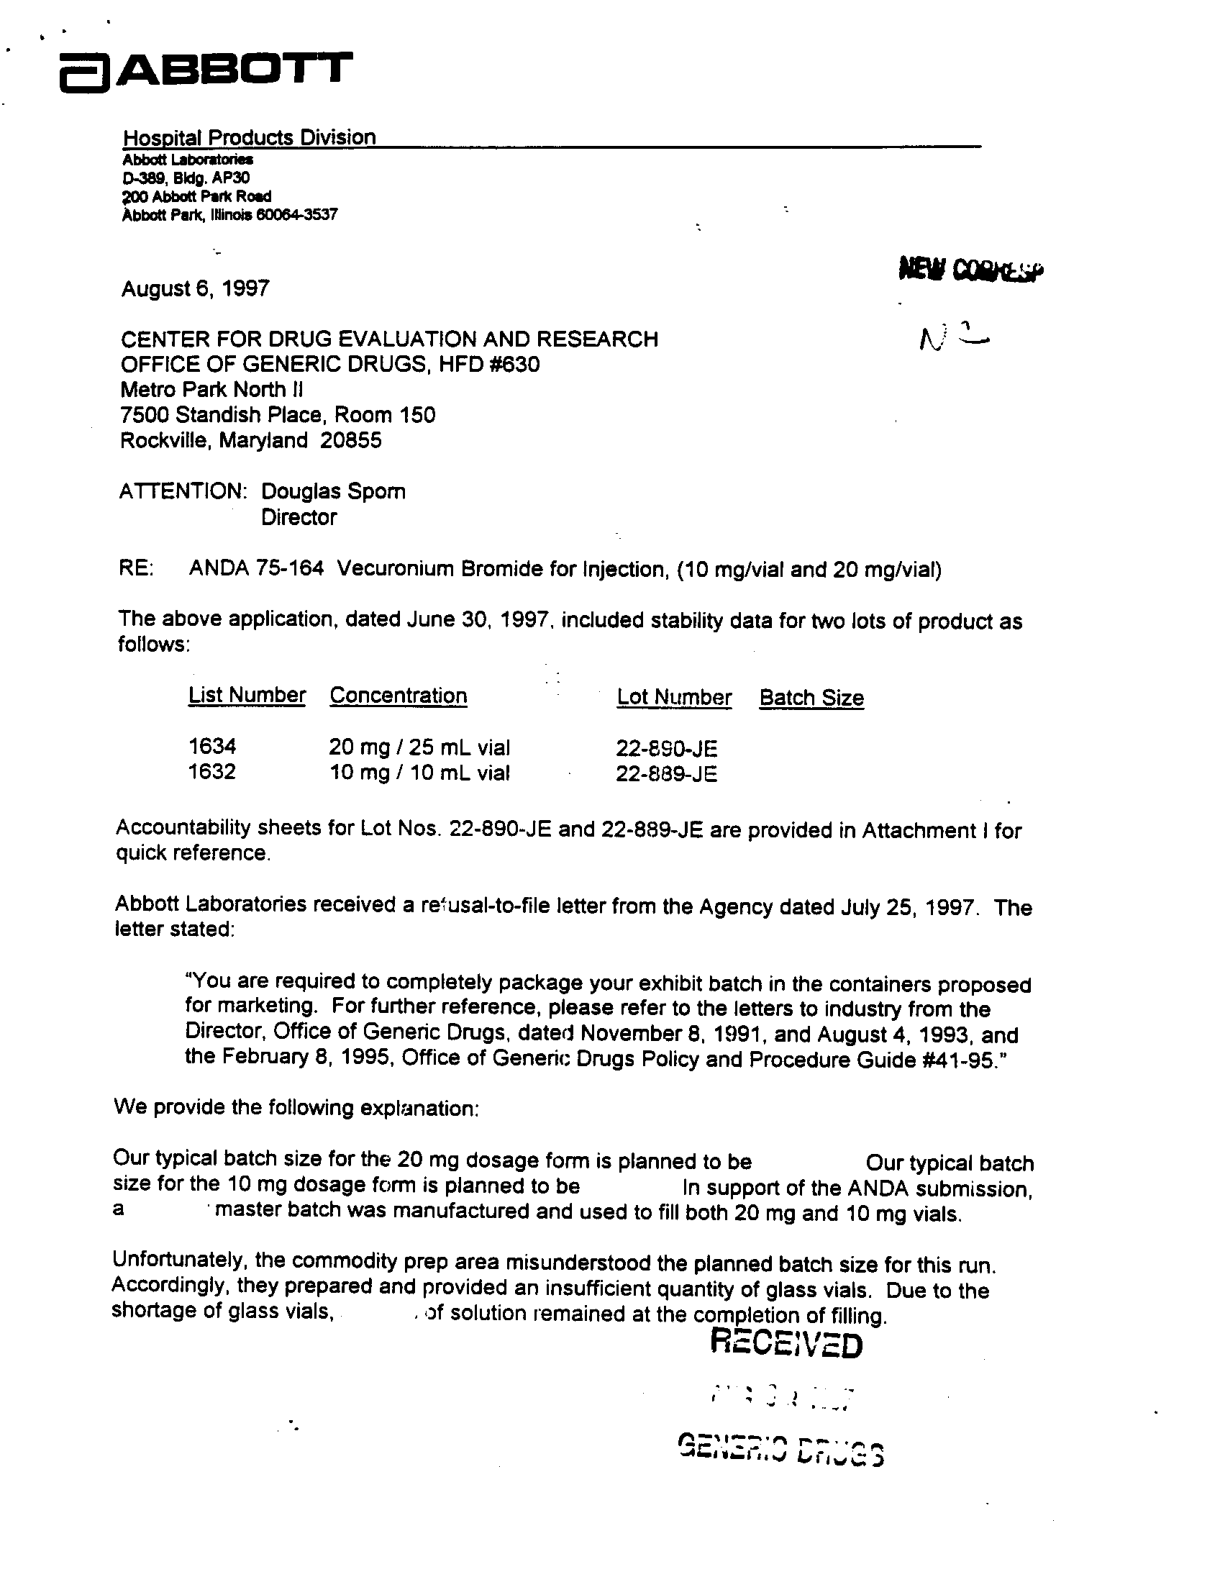nolines: (186, 680, 866, 783)
